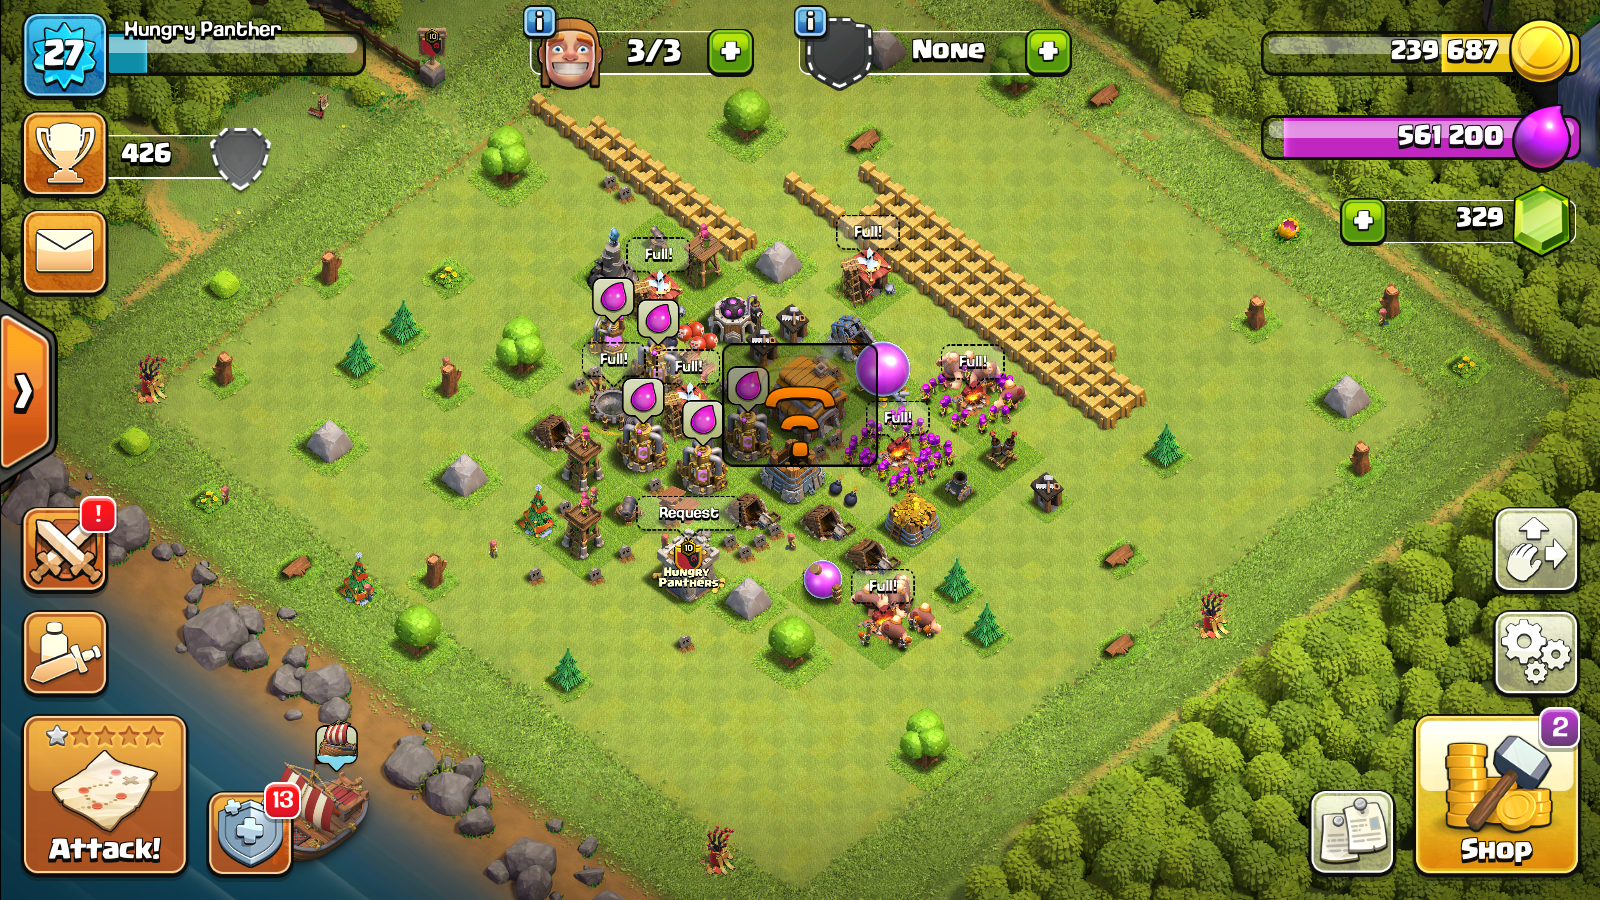low_signal: (721, 343, 880, 465)
